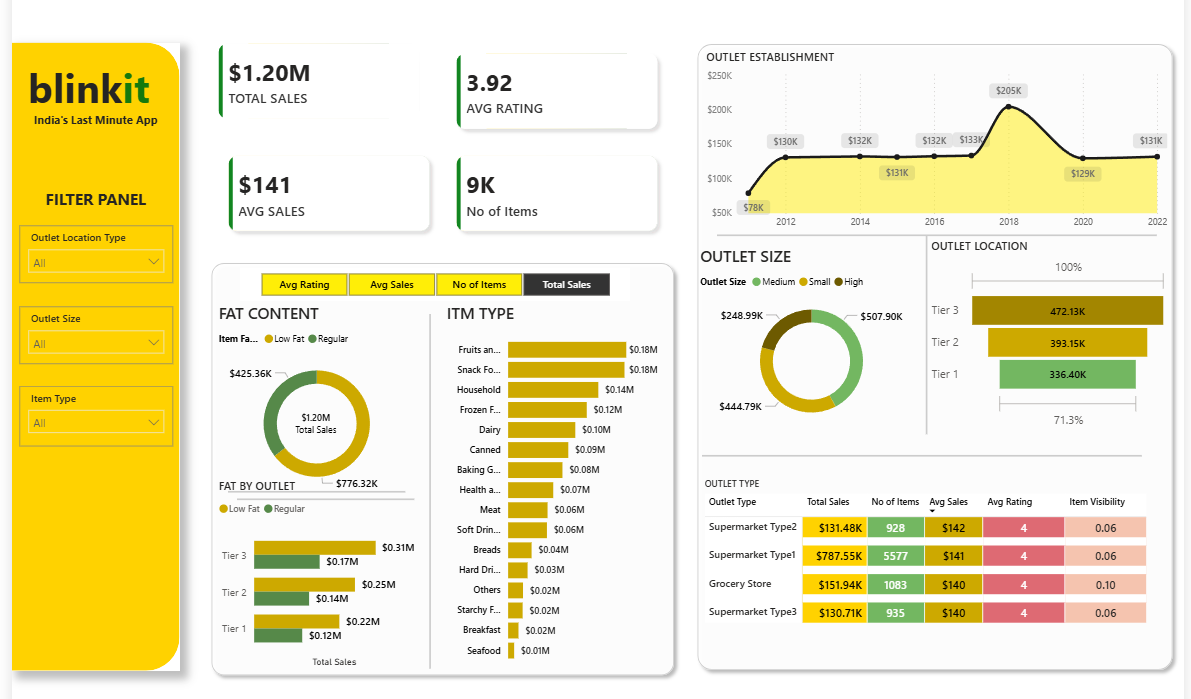

The dashboard page shown, as its layout file describes it:
{"tool":"powerbi","page":{"name":"Page 1","canvas":[1400,900],"ordinal":0},"visuals":[{"type":"shape","box":[0,83.3,200,750],"z":0},{"type":"textbox","box":[338.9,740.7,503.7,92.6],"z":1000},{"type":"textbox","box":[0,98.1,183.3,79.6],"z":2000},{"type":"textbox","box":[0,161.1,200,57.4],"z":3000},{"type":"cardVisual","fields":{"Data":["BlinkIT Grocery Data.Total Sales","BlinkIT Grocery Data.Avg Rating","BlinkIT Grocery Data.Avg Sales","BlinkIT Grocery Data.No of Items"]},"box":[228.3,68.3,570,270],"z":4000},{"type":"shape","box":[228.3,338.3,570,510],"z":4001},{"type":"donutChart","title":"FAT CONTENT","fields":{"Category":["BlinkIT Grocery Data.Item Fat Content"],"Y":["BlinkIT Grocery Data.Total Sales"]},"box":[241.7,393.3,243.3,238.3],"z":4002},{"type":"slicer","fields":{"Values":["Metrics.Metrics"]},"box":[271.7,353.3,465,40],"z":4003},{"type":"cardVisual","fields":{"Data":["BlinkIT Grocery Data.Total Sales"]},"box":[318.3,513.3,88.3,51.7],"z":4004},{"type":"clusteredBarChart","title":"FAT BY OUTLET","fields":{"Category":["BlinkIT Grocery Data.Outlet Location Type"],"Series":["BlinkIT Grocery Data.Item Fat Content"],"Y":["BlinkIT Grocery Data.Total Sales"]},"box":[241.7,603.3,243.3,230],"z":4005},{"type":"shape","box":[258.3,608.3,211.7,23.3],"z":4006},{"type":"shape","box":[491.7,408.3,13.3,423.3],"z":4007},{"type":"barChart","title":"ITM TYPE","fields":{"Category":["BlinkIT Grocery Data.Item Type"],"Y":["BlinkIT Grocery Data.Total Sales"]},"box":[513.3,393.3,261.7,440],"z":4008},{"type":"shape","box":[810,76.7,585,765],"z":4009},{"type":"lineChart","title":"OUTLET ESTABLISHMENT","fields":{"Category":["BlinkIT Grocery Data.Outlet Establishment Year"],"Y":["BlinkIT Grocery Data.Total Sales"]},"box":[823.3,91.7,560,223.3],"z":4010},{"type":"shape","box":[268.3,618.3,211.7,23.3],"z":4011},{"type":"shape","box":[841.7,303.3,525,23.3],"z":4012},{"type":"donutChart","title":"OUTLET SIZE","fields":{"Category":["BlinkIT Grocery Data.Outlet Size"],"Y":["BlinkIT Grocery Data.Total Sales"]},"box":[816.7,326.7,275,225],"z":4013},{"type":"shape","box":[1085,315,13.3,236.7],"z":4014},{"type":"funnel","title":"OUTLET LOCATION","fields":{"Category":["BlinkIT Grocery Data.Outlet Location Type"],"Y":["Sum(BlinkIT Grocery Data.Sales)"]},"box":[1091.7,316.7,291.7,231.7],"z":4015},{"type":"shape","box":[823.3,565,525,23.3],"z":4016},{"type":"pivotTable","title":"OUTLET TYPE","fields":{"Rows":["BlinkIT Grocery Data.Outlet Type"],"Values":["BlinkIT Grocery Data.Total Sales","BlinkIT Grocery Data.No of Items","BlinkIT Grocery Data.Avg Sales","BlinkIT Grocery Data.Avg Rating","Avg(BlinkIT Grocery Data.Item Visibility)"]},"box":[821.7,603.3,553.3,221.7],"z":4017},{"type":"slicer","fields":{"Values":["BlinkIT Grocery Data.Outlet Location Type"]},"box":[8.3,303.3,183.3,68.3],"z":4018},{"type":"slicer","fields":{"Values":["BlinkIT Grocery Data.Outlet Size"]},"box":[8.3,400,183.3,68.3],"z":4019},{"type":"slicer","fields":{"Values":["BlinkIT Grocery Data.Item Type"]},"box":[8.3,493.3,183.3,71.7],"z":4020},{"type":"textbox","box":[0,253.3,200,50],"z":4021}]}

Visuals, with their boxes on the page's 1400x900 design canvas (x1, y1, x2, y2). These are canvas units, not pixel positions in the 1191x699 screenshot, which may show the page scaled, cropped or inside an application window:
shape: [x1=0, y1=83, x2=200, y2=833]
textbox: [x1=339, y1=741, x2=843, y2=833]
textbox: [x1=0, y1=98, x2=183, y2=178]
textbox: [x1=0, y1=161, x2=200, y2=218]
cardVisual - BlinkIT Grocery Data.Total Sales x BlinkIT Grocery Data.Avg Rating: [x1=228, y1=68, x2=798, y2=338]
shape: [x1=228, y1=338, x2=798, y2=848]
"FAT CONTENT" donutChart: [x1=242, y1=393, x2=485, y2=632]
slicer - Metrics.Metrics: [x1=272, y1=353, x2=737, y2=393]
cardVisual - BlinkIT Grocery Data.Total Sales: [x1=318, y1=513, x2=407, y2=565]
"FAT BY OUTLET" clusteredBarChart: [x1=242, y1=603, x2=485, y2=833]
shape: [x1=258, y1=608, x2=470, y2=632]
shape: [x1=492, y1=408, x2=505, y2=832]
"ITM TYPE" barChart: [x1=513, y1=393, x2=775, y2=833]
shape: [x1=810, y1=77, x2=1395, y2=842]
"OUTLET ESTABLISHMENT" lineChart: [x1=823, y1=92, x2=1383, y2=315]
shape: [x1=268, y1=618, x2=480, y2=642]
shape: [x1=842, y1=303, x2=1367, y2=327]
"OUTLET SIZE" donutChart: [x1=817, y1=327, x2=1092, y2=552]
shape: [x1=1085, y1=315, x2=1098, y2=552]
"OUTLET LOCATION" funnel: [x1=1092, y1=317, x2=1383, y2=548]
shape: [x1=823, y1=565, x2=1348, y2=588]
"OUTLET TYPE" pivotTable: [x1=822, y1=603, x2=1375, y2=825]
slicer - BlinkIT Grocery Data.Outlet Location Type: [x1=8, y1=303, x2=192, y2=372]
slicer - BlinkIT Grocery Data.Outlet Size: [x1=8, y1=400, x2=192, y2=468]
slicer - BlinkIT Grocery Data.Item Type: [x1=8, y1=493, x2=192, y2=565]
textbox: [x1=0, y1=253, x2=200, y2=303]
